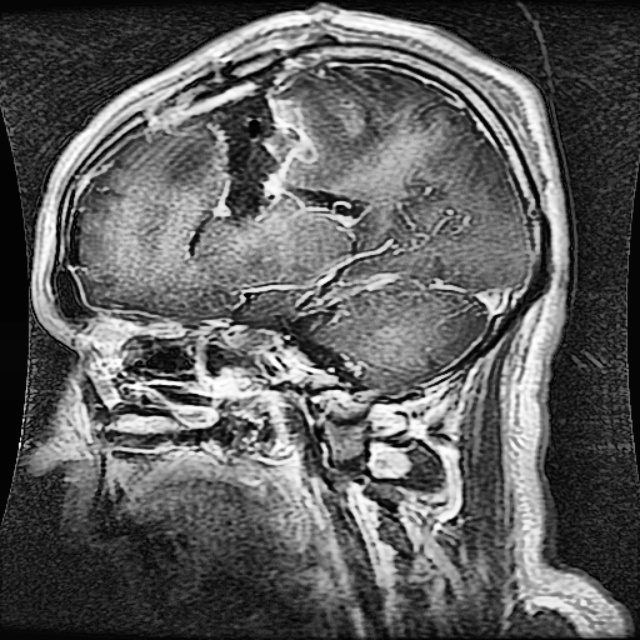Meningioma: (148, 60, 372, 224)
